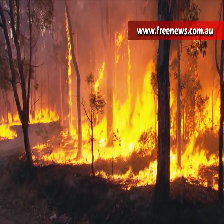fire_h: (31, 61, 158, 165), (169, 135, 224, 190), (170, 86, 222, 140), (94, 158, 158, 191), (64, 10, 77, 140), (1, 105, 60, 126)
fire_l: (94, 62, 104, 98), (127, 36, 132, 95), (1, 124, 17, 142), (115, 30, 125, 49), (114, 52, 121, 63)
